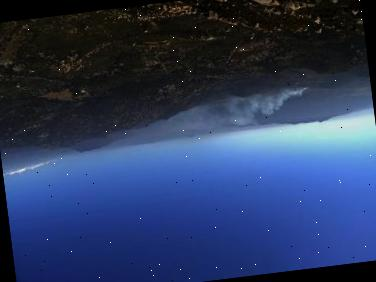smoke: (175, 85, 311, 136)
